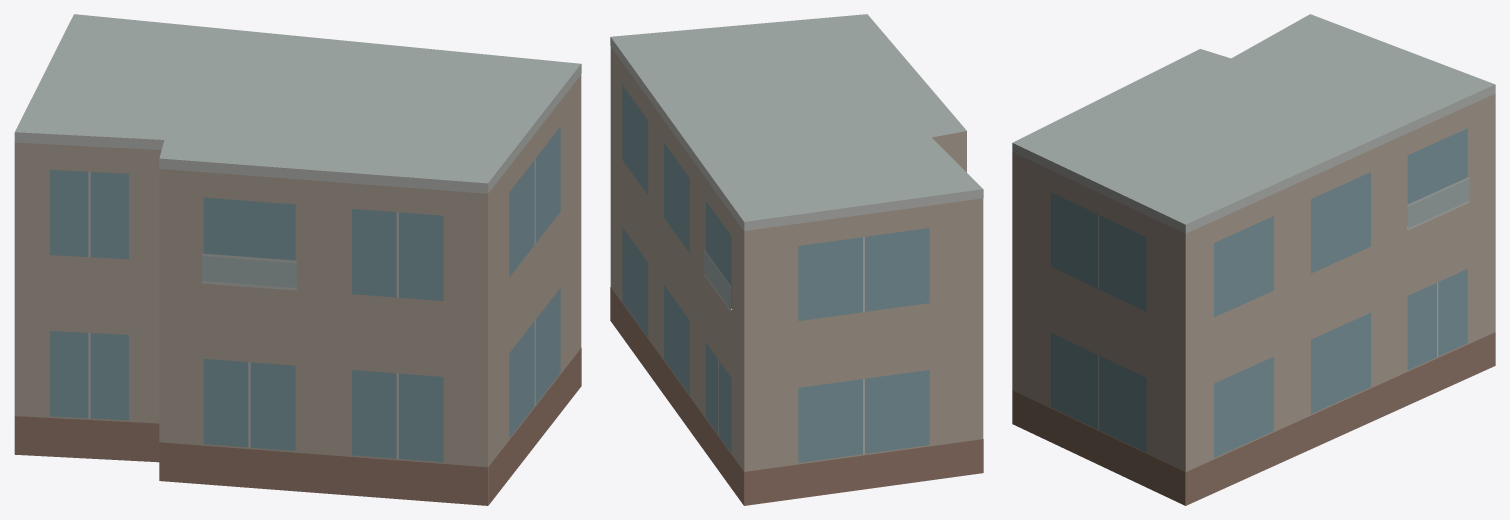
File: survey-upis-33047312.glb
3 views of the same model, side by side, from view 1: azimuth 30°, elevation 25°; view 2: azimuth 150°, elevation 25°; view 3: azimuth 270°, elevation 25° (orthographic). The views are drawn at different scales.
Visible parts, largest first — view 1: survey-upis-33047312.tmp; view 2: survey-upis-33047312.tmp; view 3: survey-upis-33047312.tmp.
Boxes of the visible parts, x1,y1,x2,y2 form: survey-upis-33047312.tmp: (14,14,581,505); survey-upis-33047312.tmp: (610,14,983,505); survey-upis-33047312.tmp: (1012,14,1495,505).
Size of the model in its own units: 12.22 by 7.6 by 11.85.
